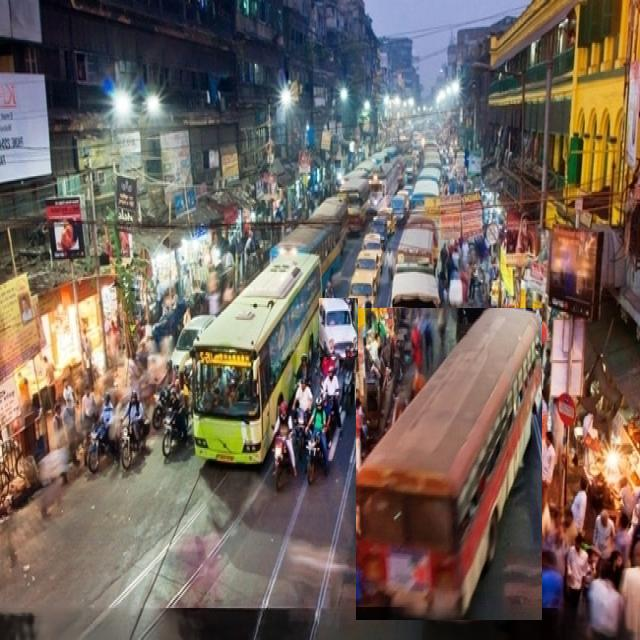bus: (356, 308, 541, 620), (194, 252, 322, 463)
car: (319, 298, 358, 357)
